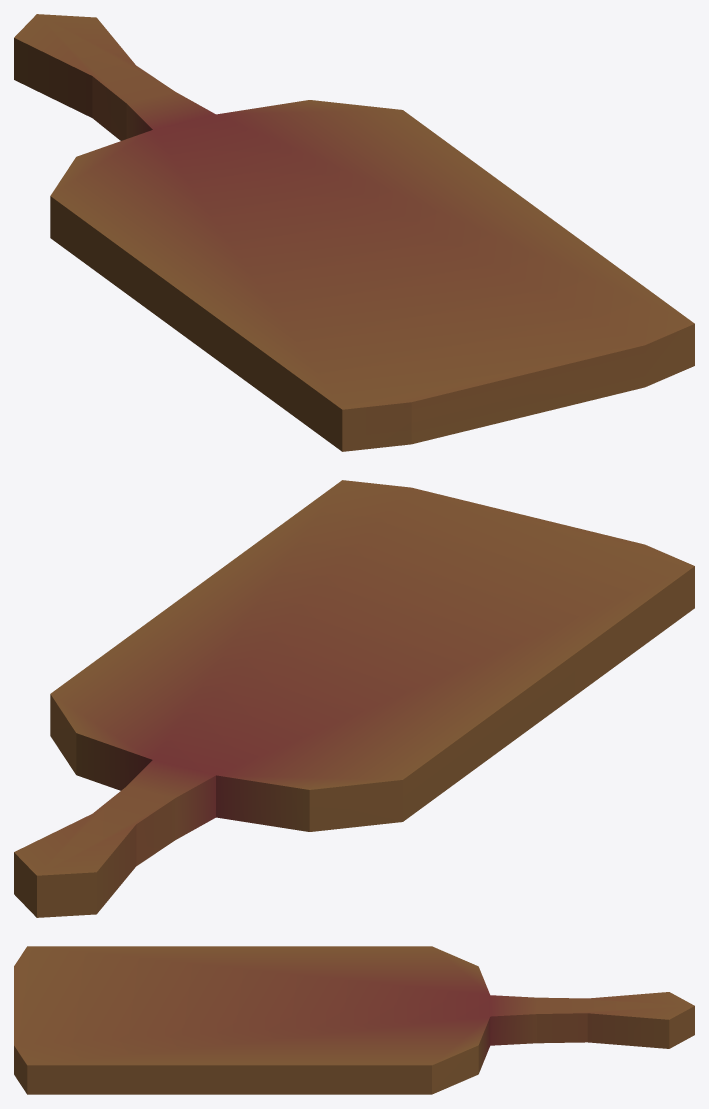
3 views of the same model, one above another, from view 1: azimuth 30°, elevation 25°; view 2: azimuth 150°, elevation 25°; view 3: azimuth 270°, elevation 25° (orthographic). The views are drawn at different scales.
Visible parts, largest first — view 1: slab; view 2: slab; view 3: slab.
Part boxes in pixels (left/top/right/bottom): slab: left=14, top=14, right=694, bottom=451; slab: left=14, top=480, right=694, bottom=917; slab: left=14, top=946, right=694, bottom=1094.
Size of the model in its own units: 0.145 by 0.0189 by 0.35.
